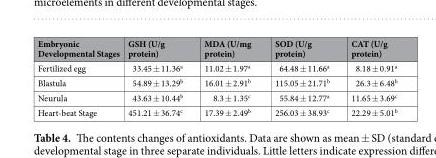table: (36, 36, 396, 118)
table column: (36, 36, 123, 118), (262, 36, 339, 118), (192, 36, 262, 118), (123, 36, 192, 118), (339, 36, 396, 118)
table column header: (36, 36, 396, 60)
table row: (36, 36, 396, 60), (36, 60, 396, 75), (36, 89, 396, 104), (36, 75, 396, 89), (36, 104, 396, 118)
